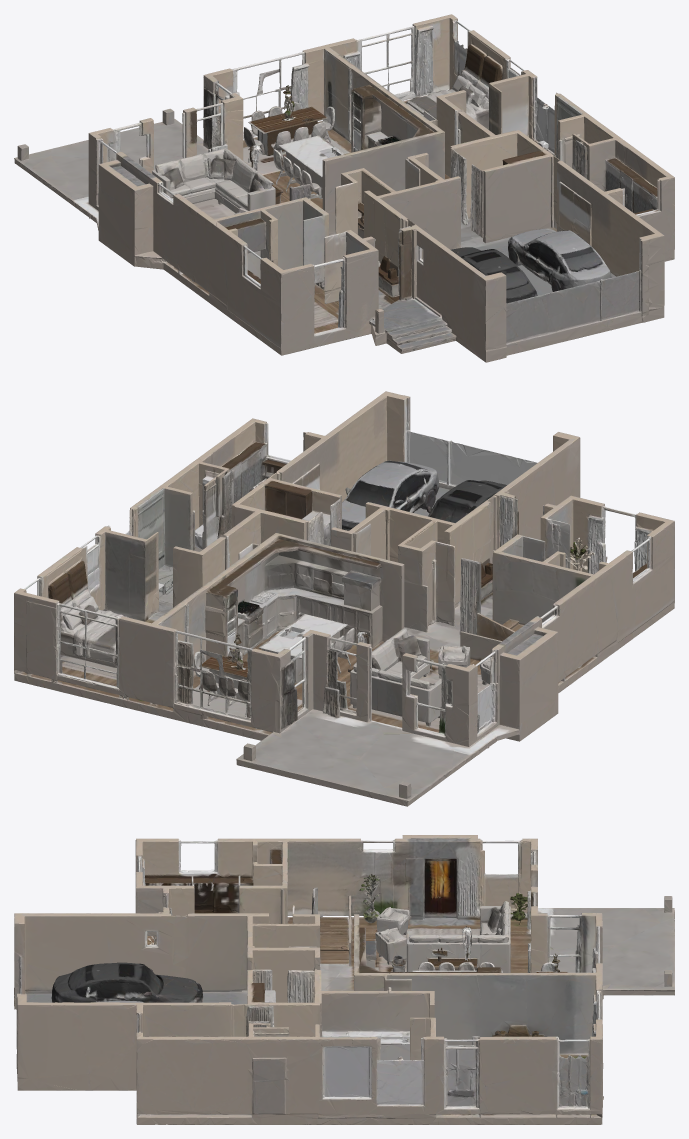
File: harmony-0.glb
The picture shows the model from 3 angles, top to bottom: view 1: azimuth 30°, elevation 25°; view 2: azimuth 150°, elevation 25°; view 3: azimuth 270°, elevation 25°; orthographic projection. The views are drawn at different scales.
Visible parts, largest first — view 1: geometry_0; view 2: geometry_0; view 3: geometry_0.
Boxes of the visible parts, bbox=[...] form: geometry_0: bbox=[14, 14, 674, 362]; geometry_0: bbox=[14, 391, 674, 806]; geometry_0: bbox=[14, 835, 674, 1124].
Size of the model in its own units: 13.89 by 2.7 by 18.4.
1 material, 1 textured.
